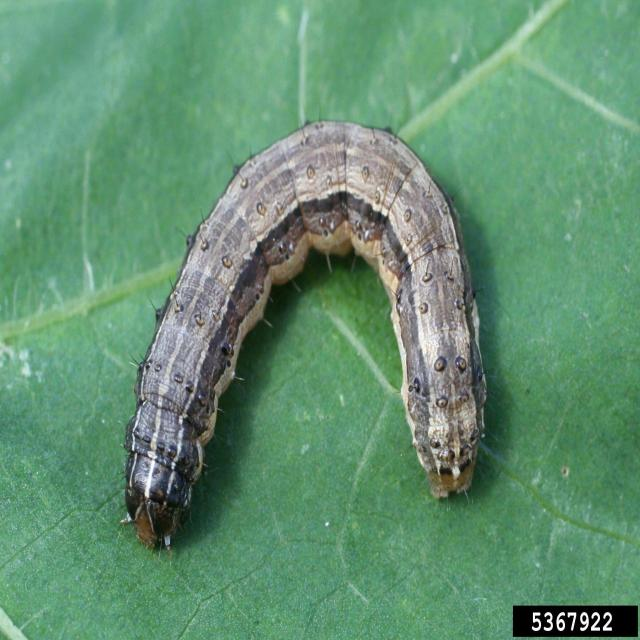armyworm: (120, 117, 488, 556)
